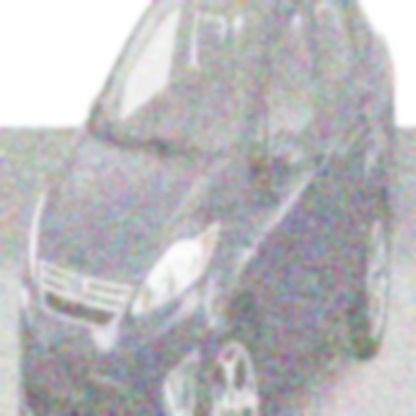Vehicle: (19, 4, 400, 412)
